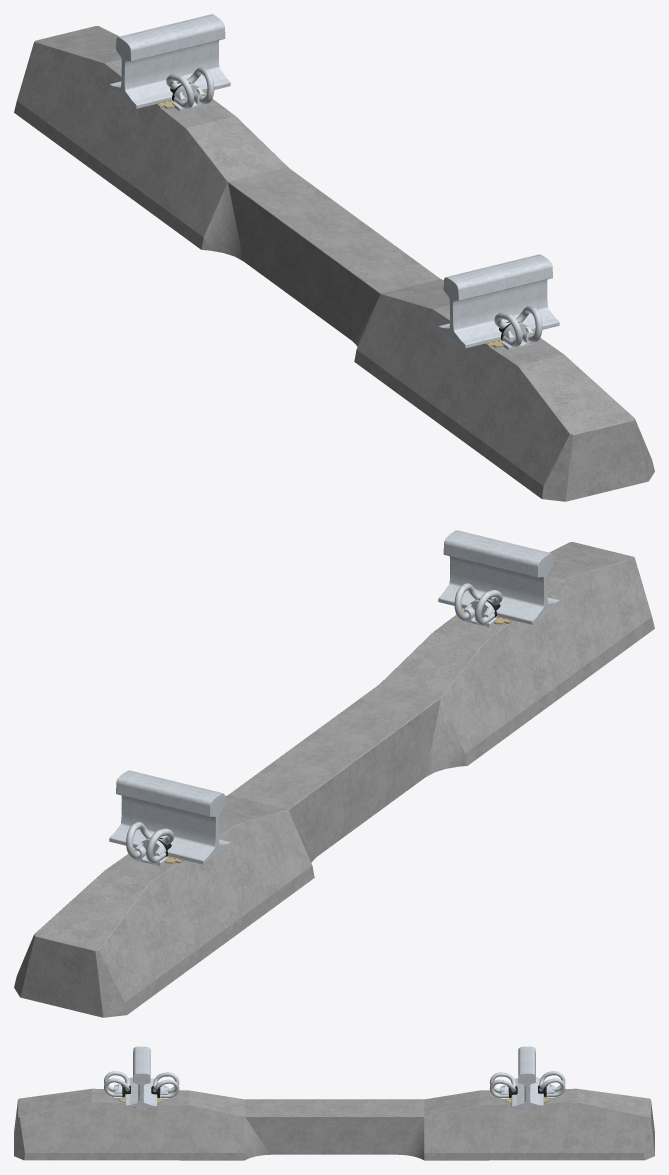
Rendered from PST12.glb.
3 renders of one model, top to bottom at view 1: azimuth 30°, elevation 25°; view 2: azimuth 150°, elevation 25°; view 3: azimuth 270°, elevation 25°, orthographic. The views are drawn at different scales.
Parts seen in each view (by area): view 1: Bryła1, Bryła1.015, Bryła1.014, Bryła1.009, Bryła1.012; view 2: Bryła1, Bryła1.014, Bryła1.015, Bryła1.011, Bryła1.013; view 3: Bryła1, Bryła1.015, Bryła1.014, Bryła1.013, Bryła1.011, Bryła1.012, Bryła1.009.
Part boxes in pixels (<box>): Bryła1: <box>14,26,654,501</box>; Bryła1.015: <box>109,14,230,108</box>; Bryła1.014: <box>438,254,559,348</box>; Bryła1.009: <box>494,305,542,346</box>; Bryła1.012: <box>166,67,214,108</box>; Bryła1: <box>14,542,654,1017</box>; Bryła1.014: <box>438,530,559,624</box>; Bryła1.015: <box>109,770,230,864</box>; Bryła1.011: <box>454,583,502,624</box>; Bryła1.013: <box>126,822,174,863</box>; Bryła1: <box>14,1088,654,1160</box>; Bryła1.015: <box>511,1046,543,1108</box>; Bryła1.014: <box>125,1046,157,1108</box>; Bryła1.013: <box>539,1071,565,1096</box>; Bryła1.011: <box>153,1072,179,1097</box>; Bryła1.012: <box>489,1072,515,1097</box>; Bryła1.009: <box>104,1071,129,1096</box>.
Size of the model in its own units: 0.2999 by 0.3628 by 2.5.
Materials: 7 (6 with a texture image).
